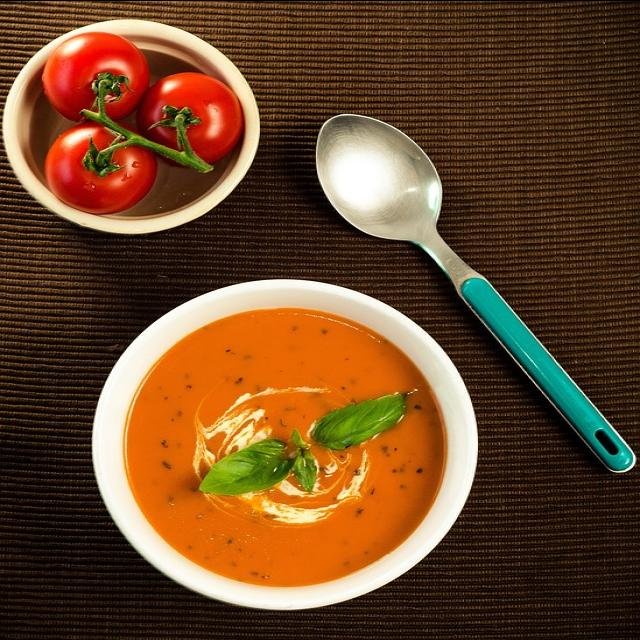spoon: (316, 111, 634, 470)
